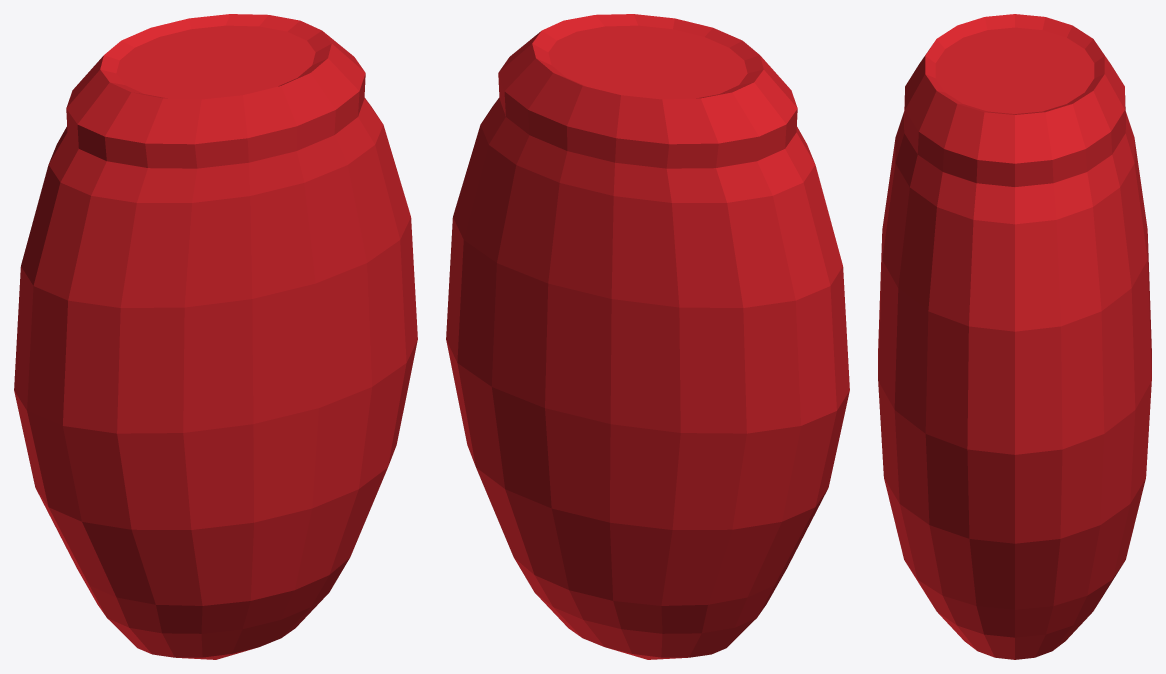
The model's file is PlayChar_Body.fbx.
3 views of the same model, side by side, from view 1: azimuth 30°, elevation 25°; view 2: azimuth 150°, elevation 25°; view 3: azimuth 270°, elevation 25° (orthographic). The views are drawn at different scales.
Parts seen in each view (by area): view 1: Cylinder001; view 2: Cylinder001; view 3: Cylinder001.
Part boxes in pixels (left/top/right/bottom): Cylinder001: left=14, top=14, right=417, bottom=659; Cylinder001: left=446, top=14, right=849, bottom=659; Cylinder001: left=878, top=14, right=1151, bottom=659.
Bounding box in the file's own units: 19.36 × 29.55 × 12.46.
